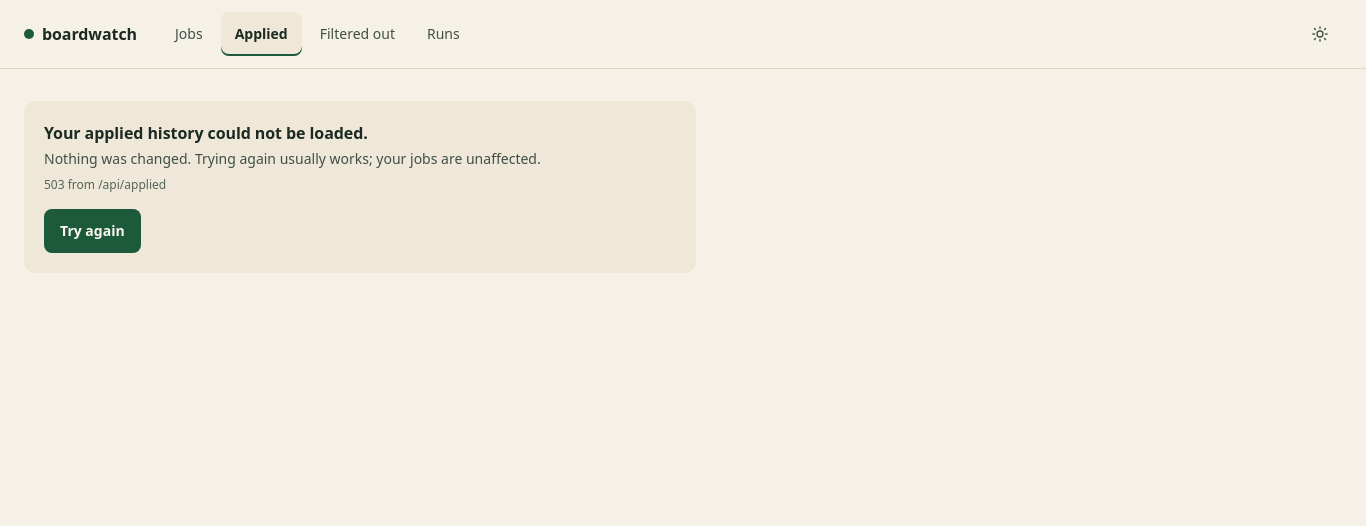
Test: a failed read › says what happened in words, with the transport text kept small, and retries on request
Expected: the 1st message shows "Your applied history could not be loaded.", [44,122,368,144]
Expected: the 1st message shows "Nothing was changed", [44,149,541,168]
Click the button "Try again" at [92, 231], box [44,209,141,253]
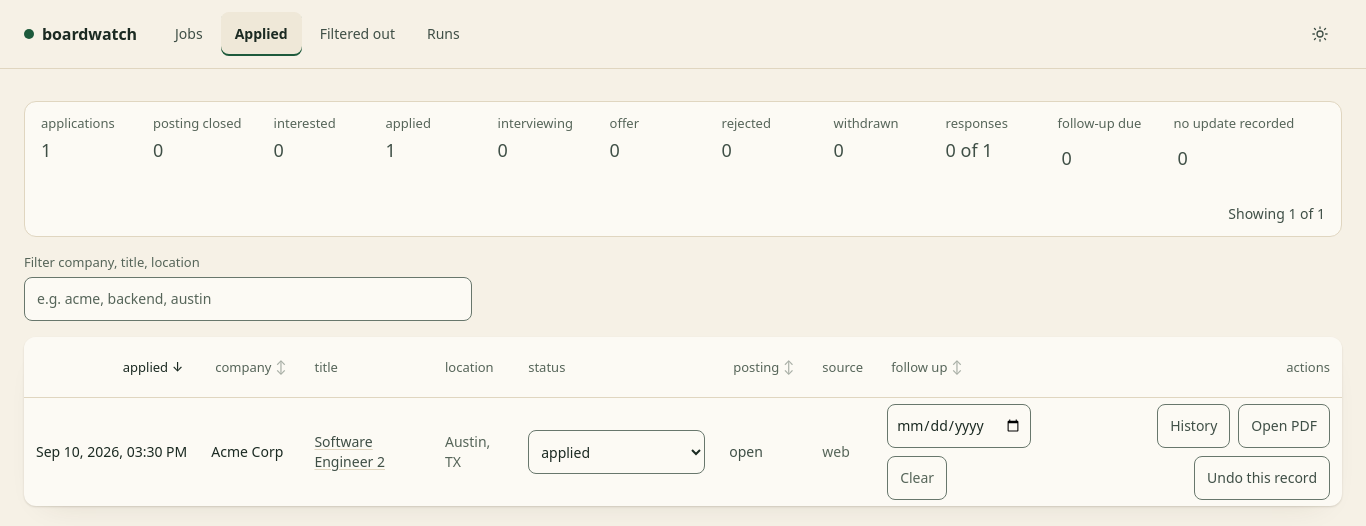
Now the text "Acme Corp" is shown, box [199,398,302,506]
